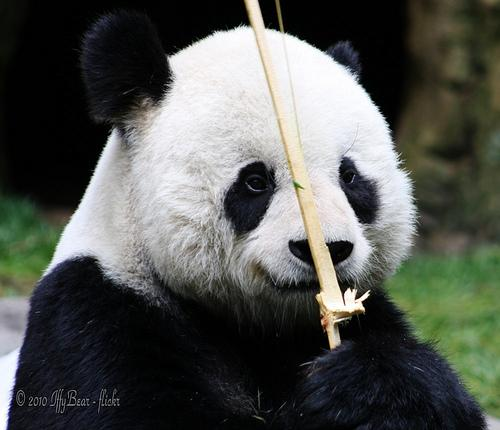panda: (0, 10, 484, 429)
